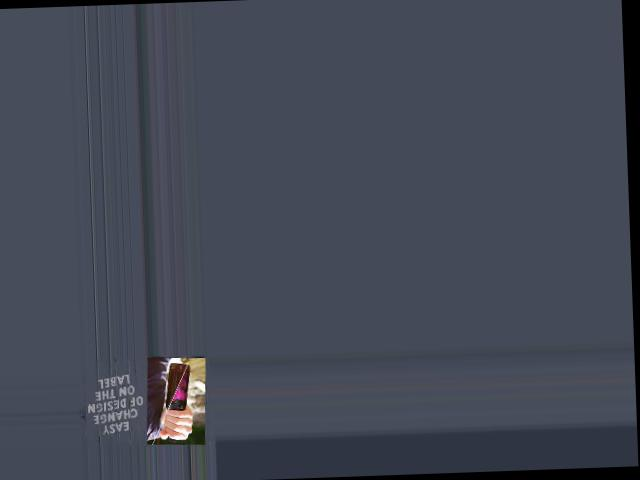beer: (163, 362, 191, 441)
